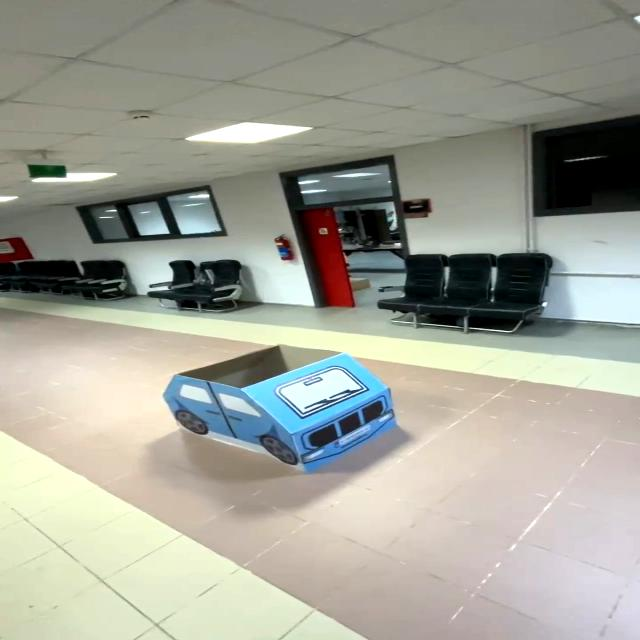blue_car: (121, 341, 418, 484)
